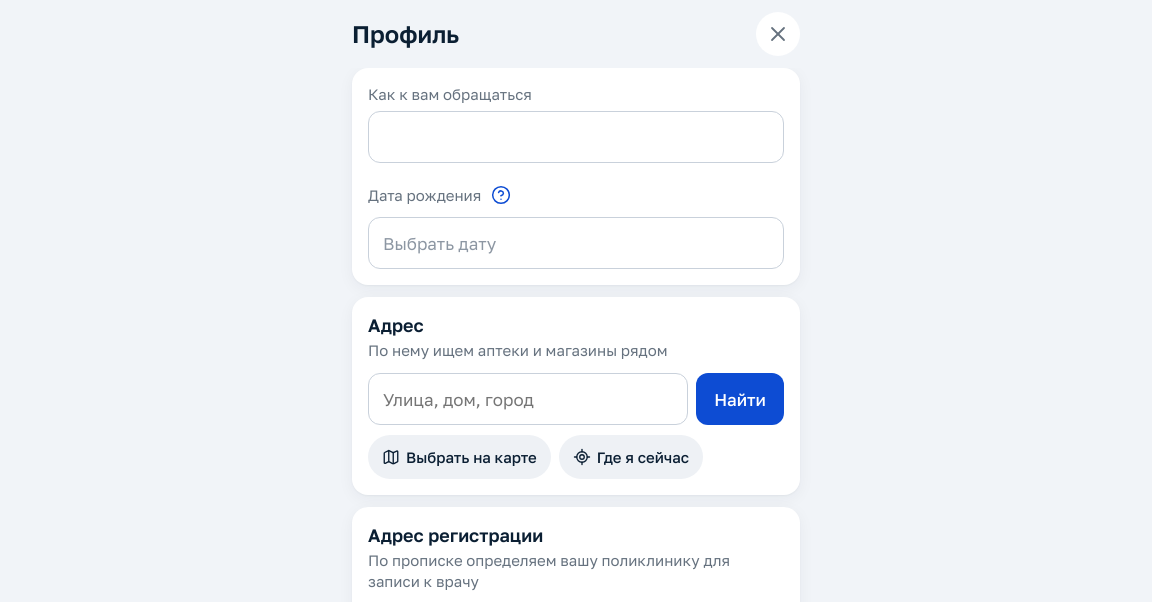
Test case: ProfilePage › короткий и ненайденный адрес, сервис недоступен
Type "аб" into the field named "Поиск адреса" at [528, 399], box 368,373 -> 688,425
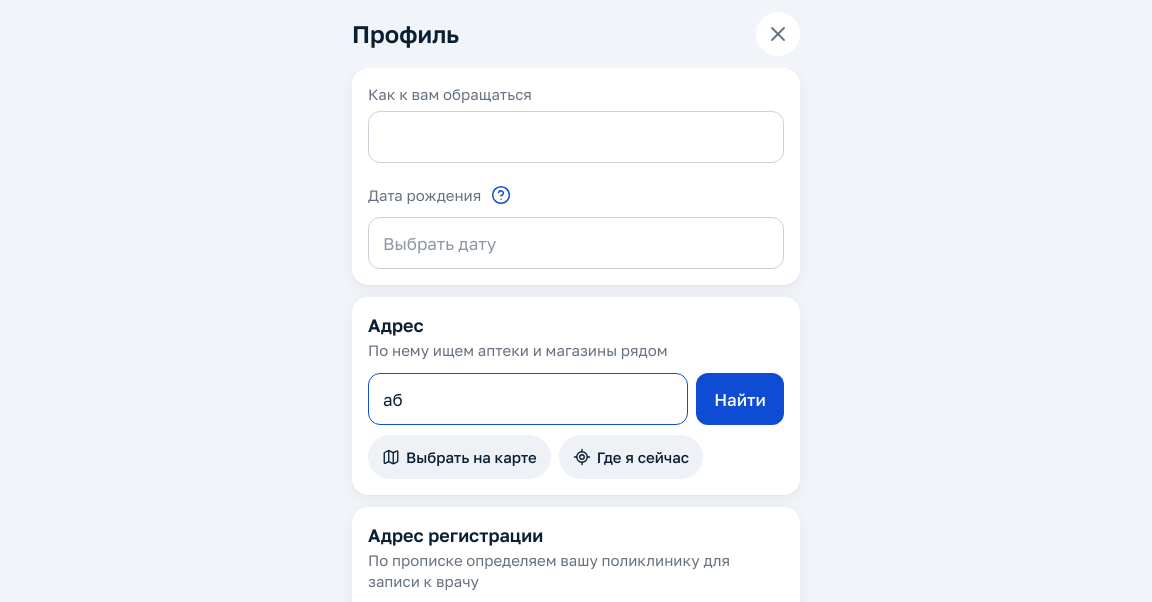
Click the button "Найти" below "По нему ищем аптеки и магазины рядом" at [740, 399], box 696,373 -> 784,425
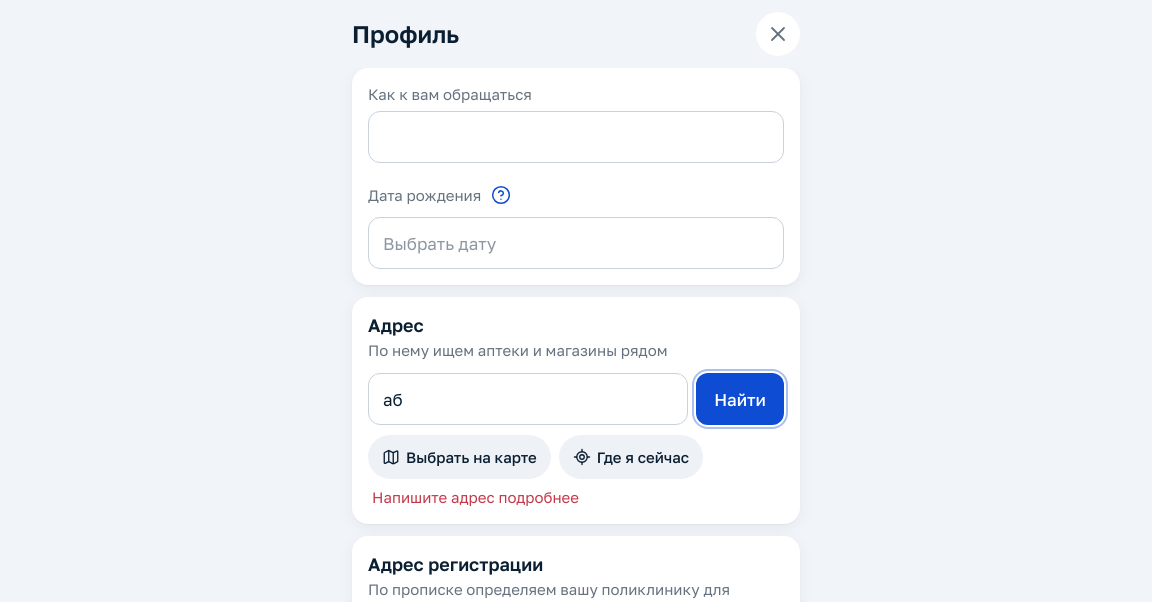
expect the text "Напишите адрес подробнее" is shown: met, box 372,488 -> 579,506
Type "вгд" into the field named "Поиск адреса" at [528, 399], box 368,373 -> 688,425
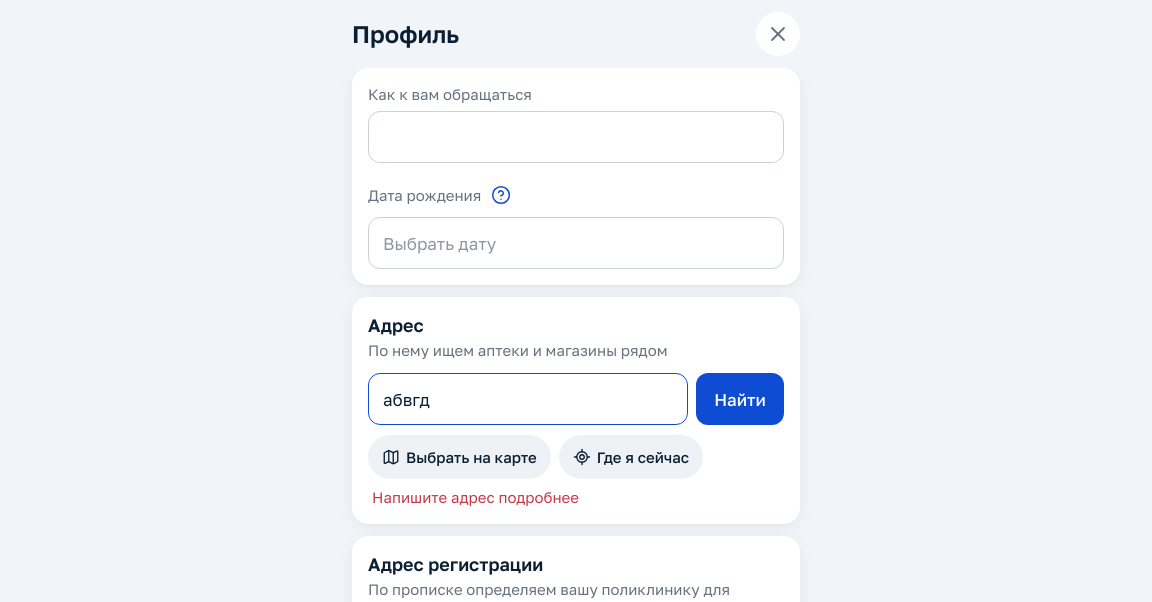
Click the button "Найти" below "По нему ищем аптеки и магазины рядом" at [740, 399], box 696,373 -> 784,425
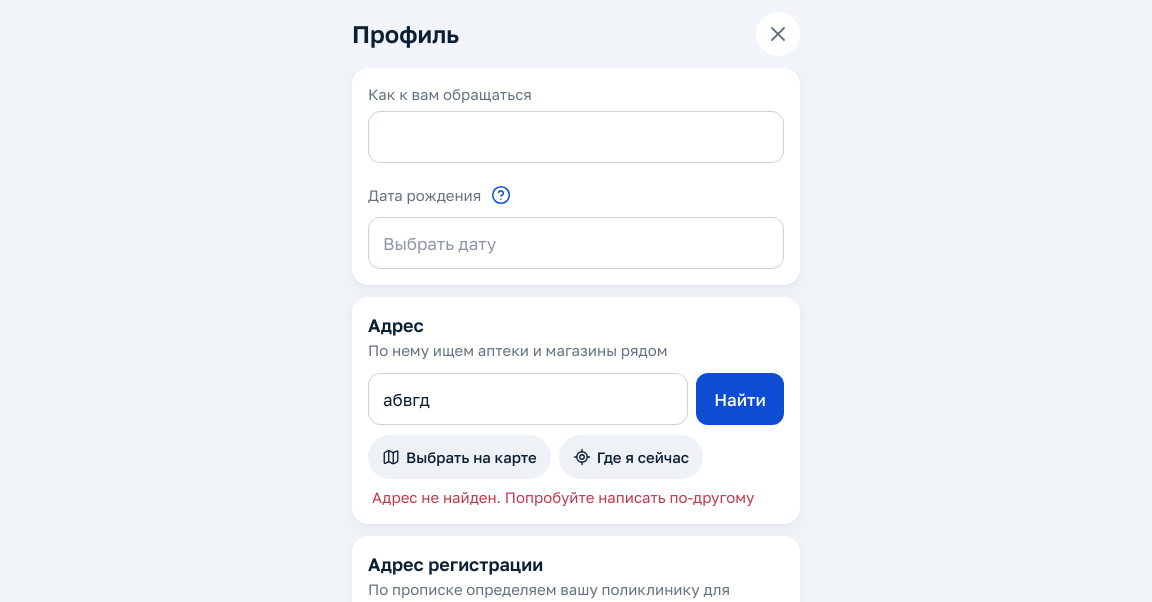
expect the text "Адрес не найден. Попробуйте написать по-другому" is shown: met, box 372,487 -> 780,508
Type "e" into the field named "Поиск адреса" at [528, 399], box 368,373 -> 688,425
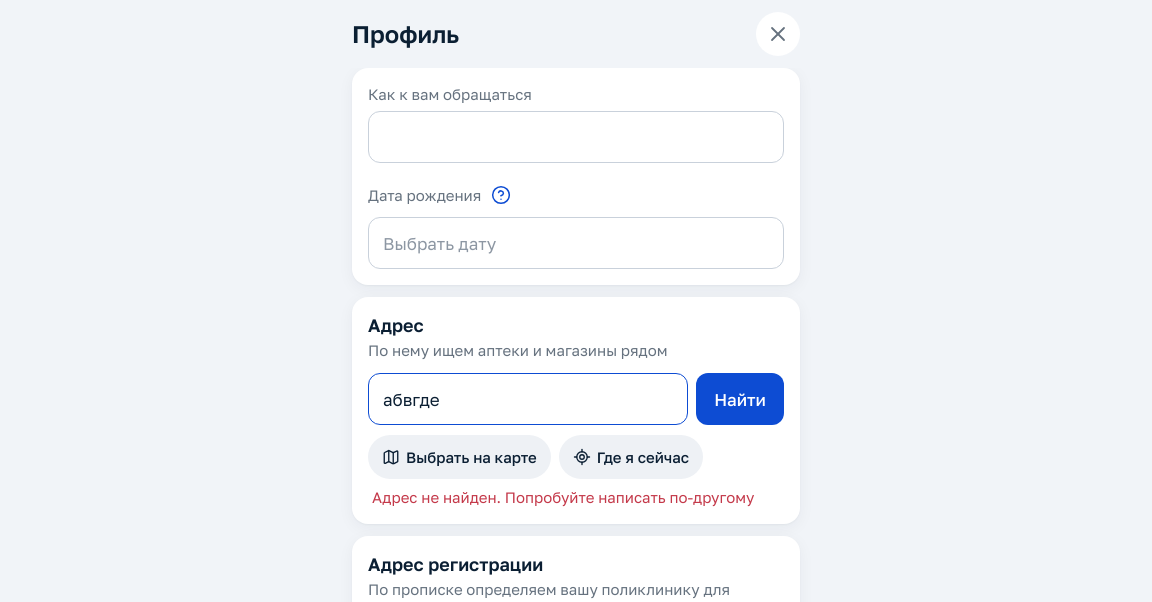
Click the button "Найти" below "По нему ищем аптеки и магазины рядом" at [740, 399], box 696,373 -> 784,425
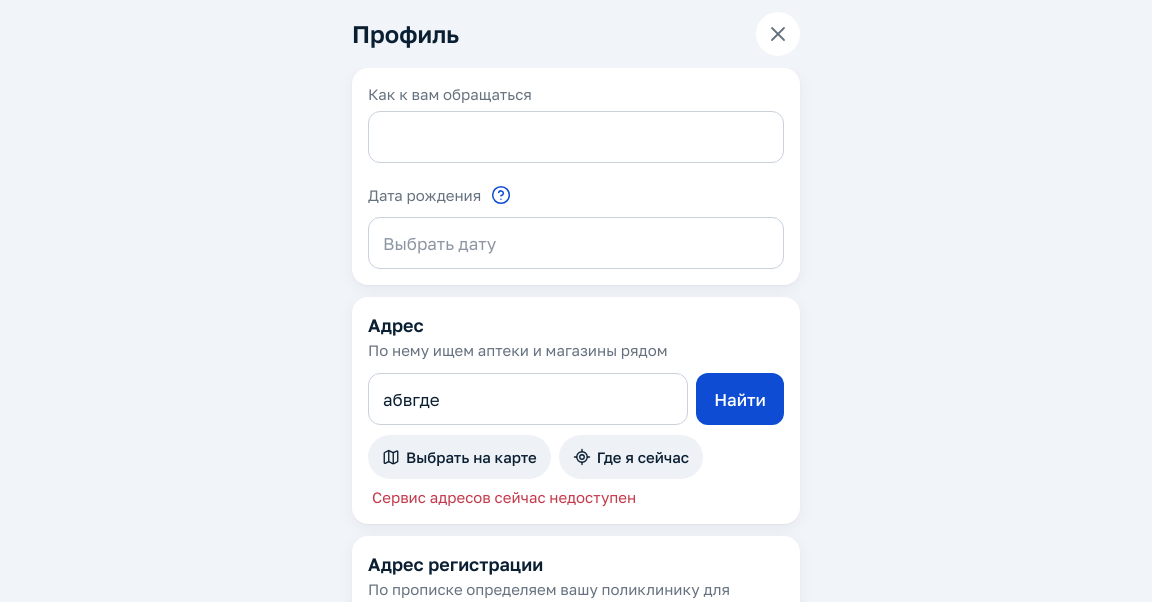
expect the text "Сервис адресов сейчас недоступен" is shown: met, box 372,488 -> 636,506
